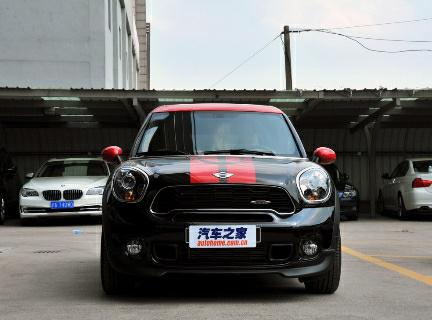MINI-JCWPACEMAN: (96, 101, 339, 305)
